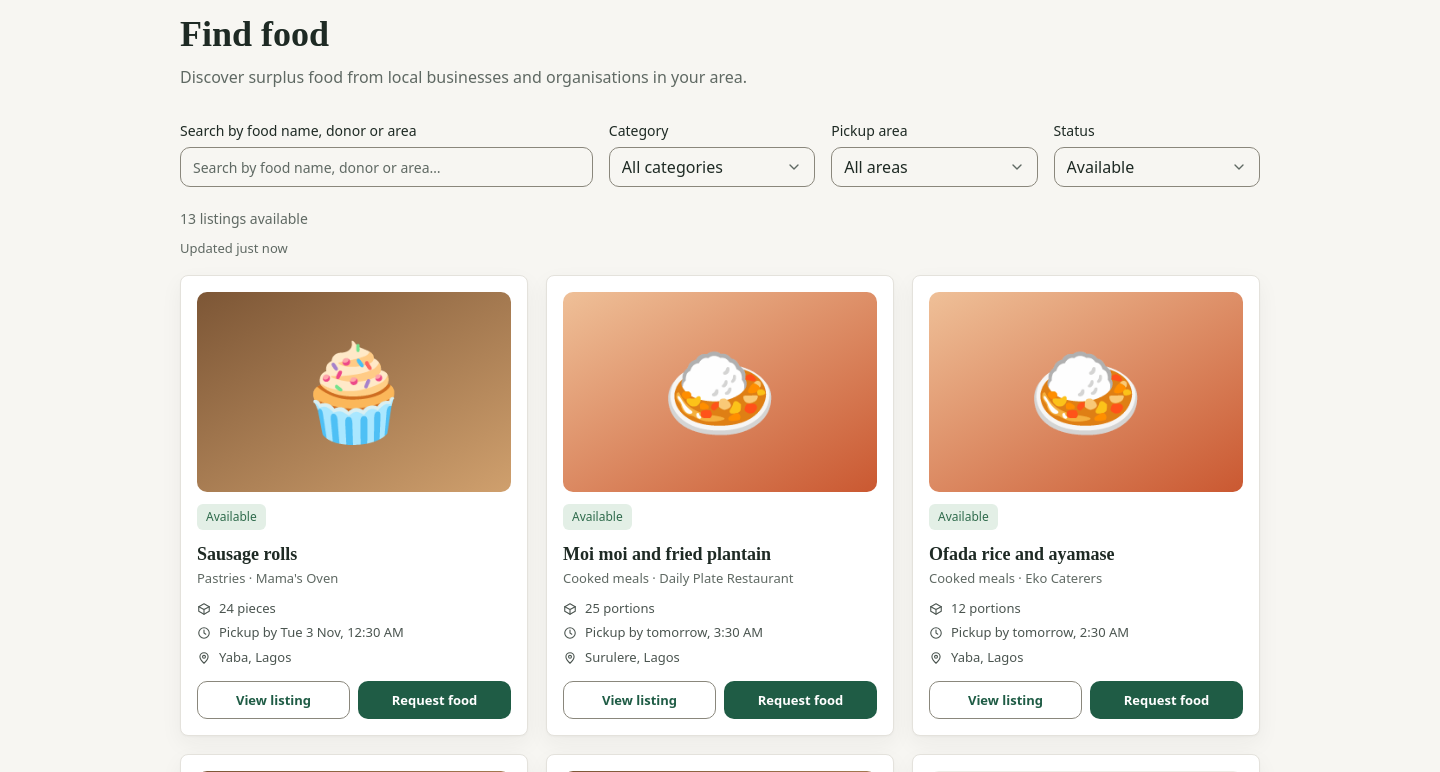
it: Find food: filters › combines category and area, and keeps them in the address
The image size is (1440, 772).
Expected: the heading "Sausage rolls" is shown, [197,544,297,564]
Click the dropdown named "Category": (712,167) [609,147,815,187]
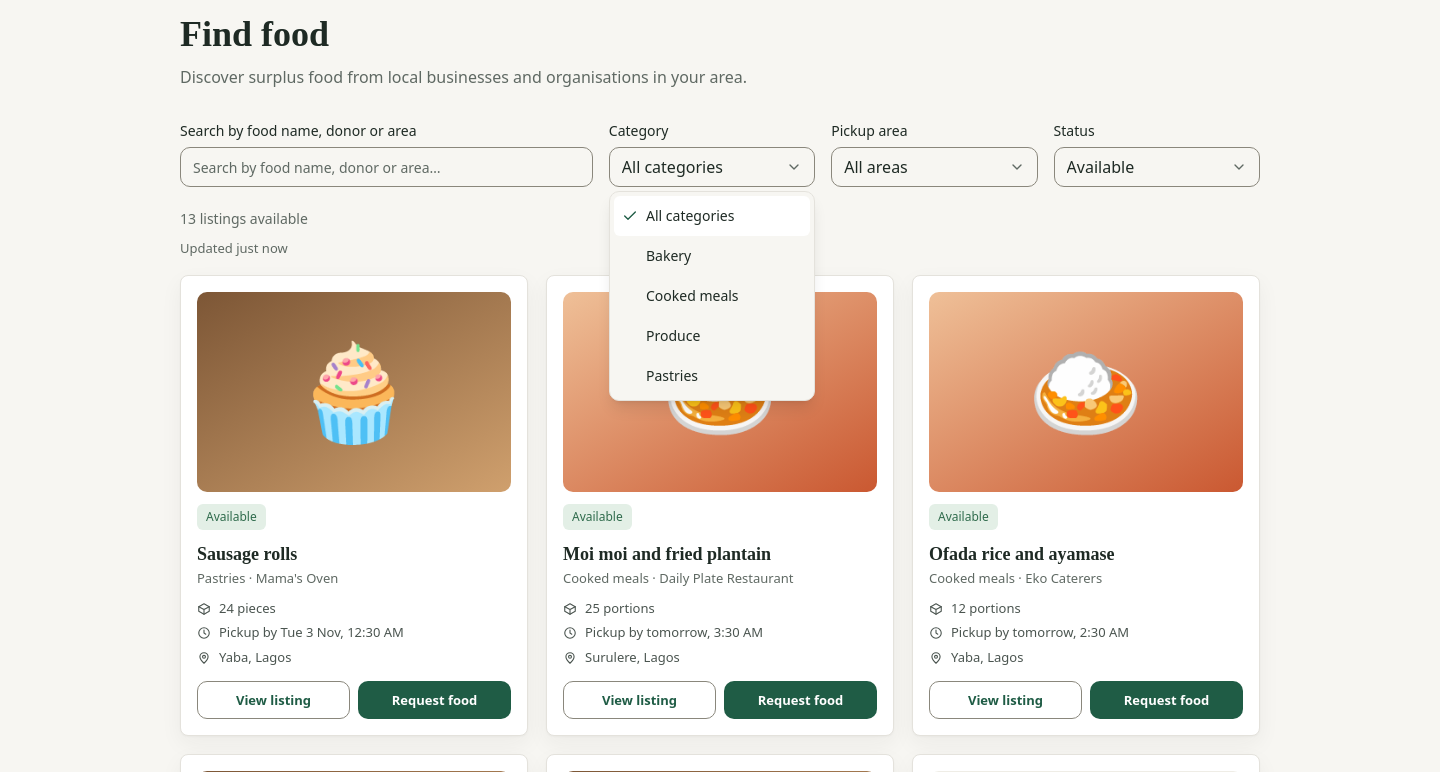
Click the option "Cooked meals": (692,296) [646,286,739,305]
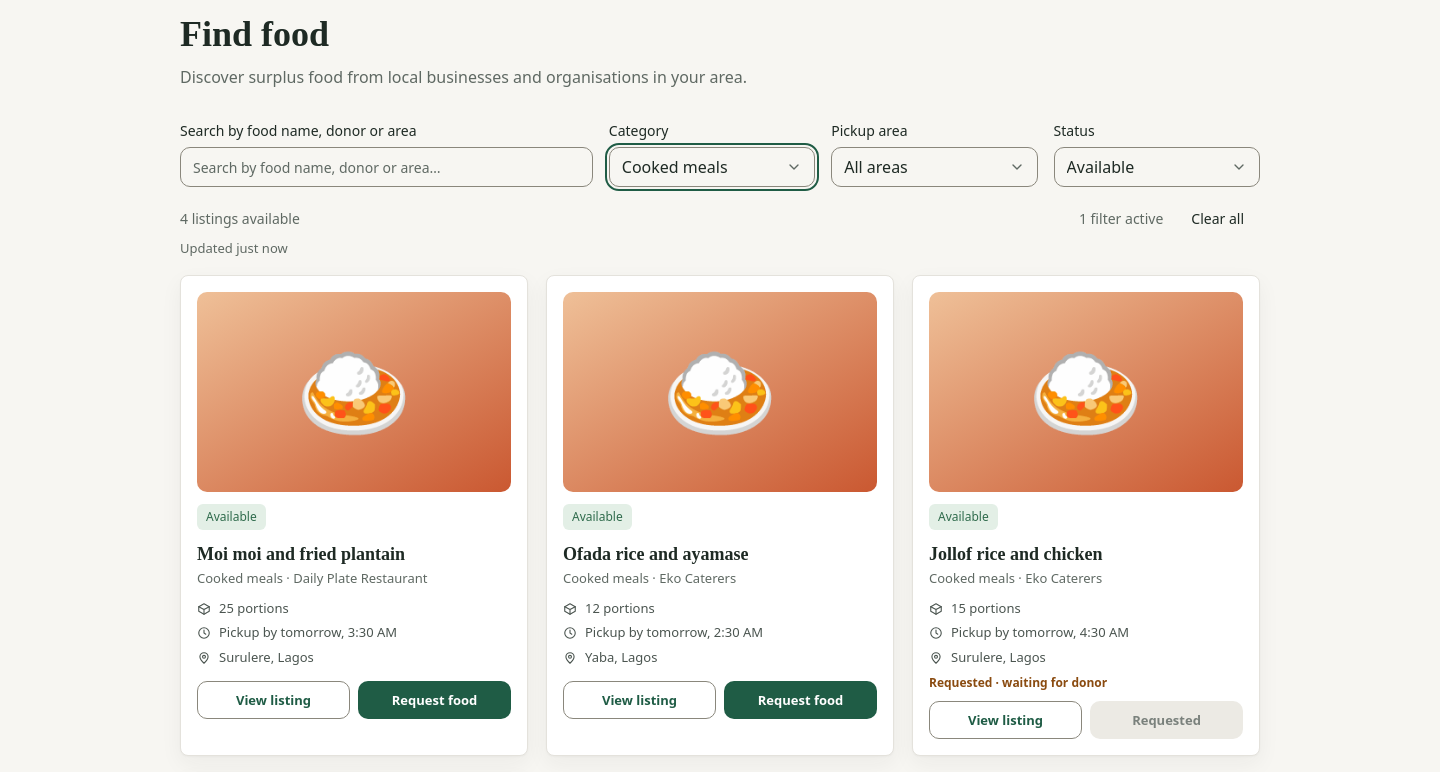
Click the dropdown named "Pickup area": (934,167) [831,147,1038,187]
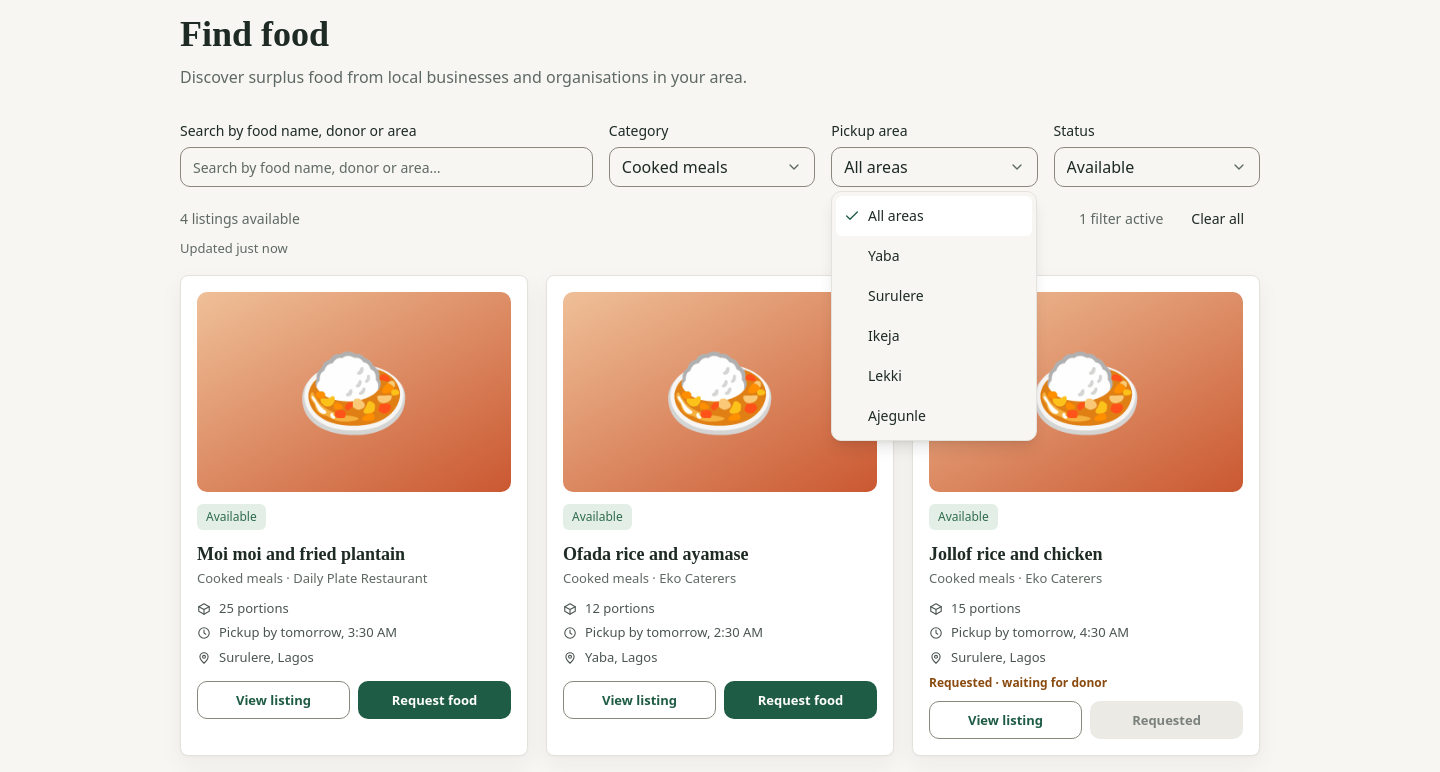
Click the option "Surulere": (896,296) [868,286,924,305]
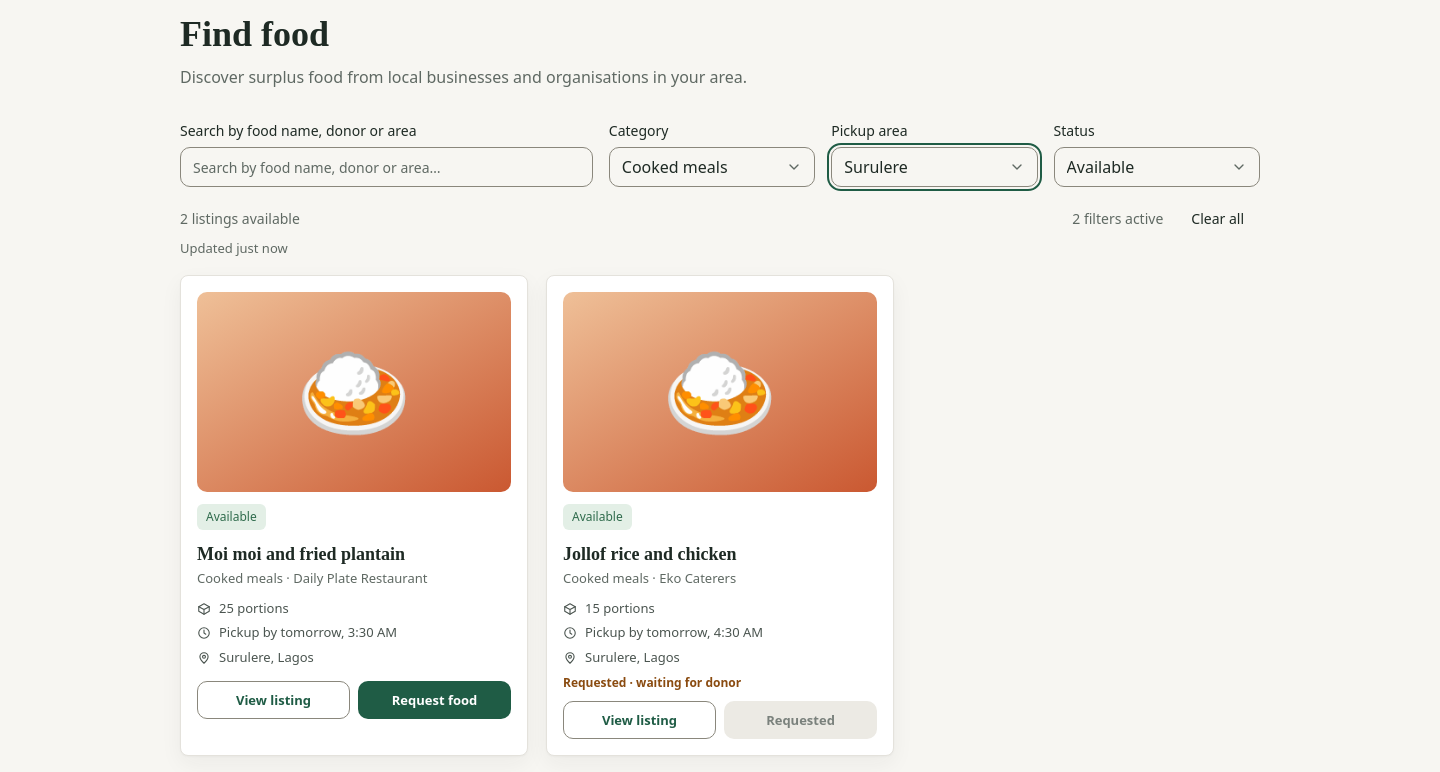
Result: the text "2 listings available" is shown at [180,209,300,229]
